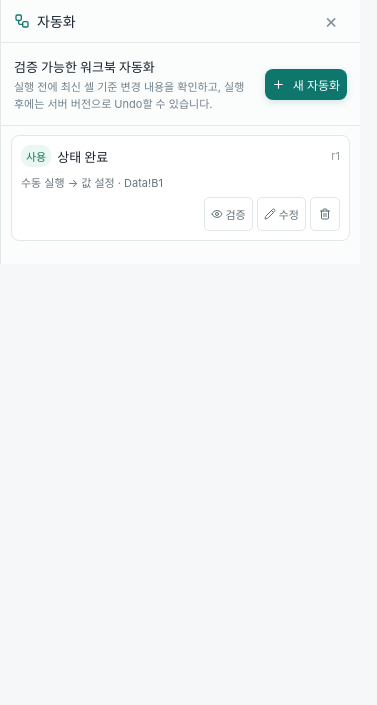
it: AutomationPanel › pins labels to the preview snapshot and blocks a newer server definition missing from the list cache
This screenshot has width=377, height=705.
Click the button "검증".
click(228, 214)  # box x1=204 y1=197 x2=253 y2=231
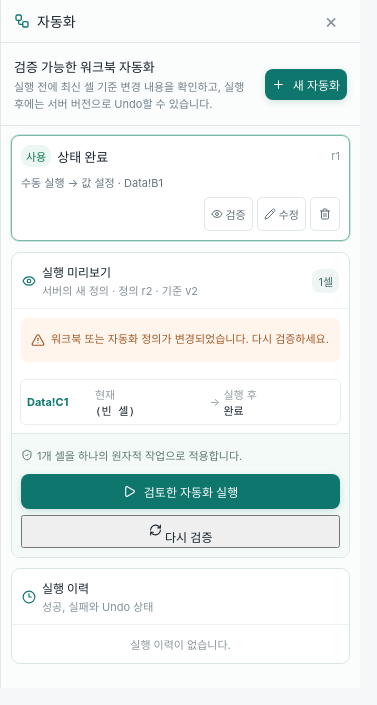
Check: the text "서버의 새 정의 · 정의 r2 · 기준 v2" is shown, box x1=42 y1=282 x2=198 y2=298
Check: the text "Data!C1" is shown, box x1=27 y1=395 x2=68 y2=409
Check: the text "워크북 또는 자동화 정의가 변경되었습니다. 다시 검증하세요." is shown, box x1=21 y1=318 x2=340 y2=362
